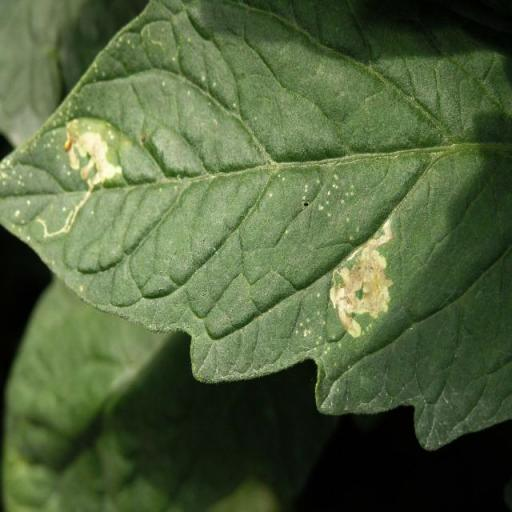disease_tomato: (0, 0, 512, 446)
